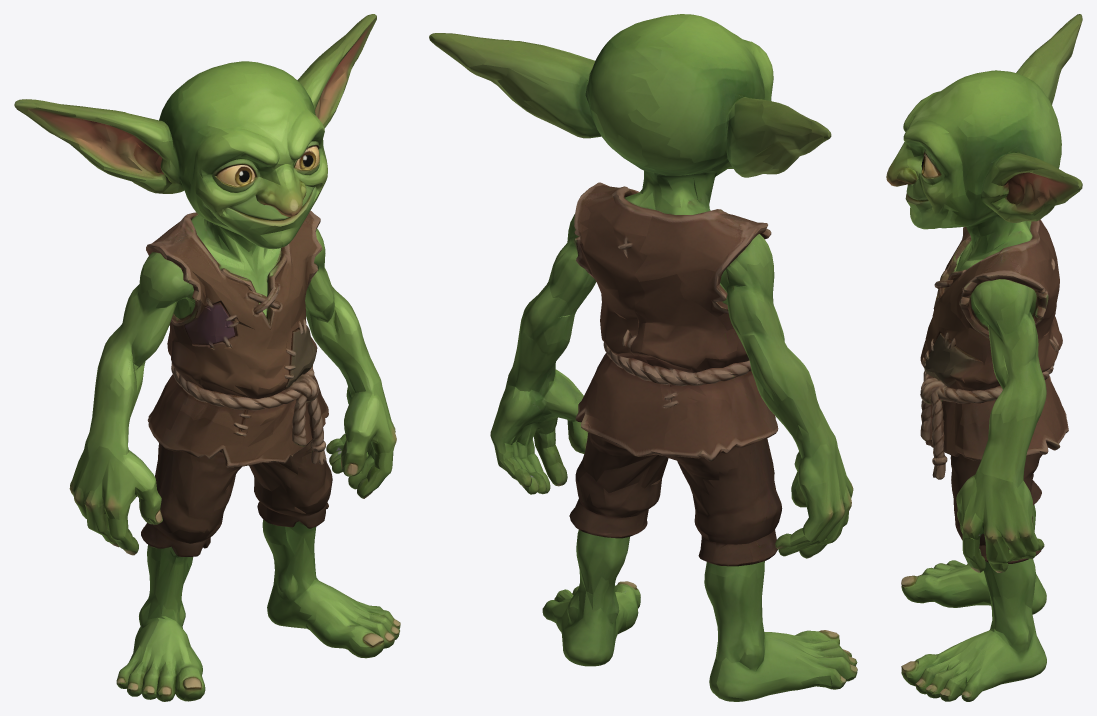
Rendered from Goblin_model.glb.
3 views of the same model, side by side, from view 1: azimuth 30°, elevation 25°; view 2: azimuth 150°, elevation 25°; view 3: azimuth 270°, elevation 25° (orthographic). The views are drawn at different scales.
Bounding box in the file's own units: 1.24 × 1.9 × 0.6008.
1 material, 1 textured.
